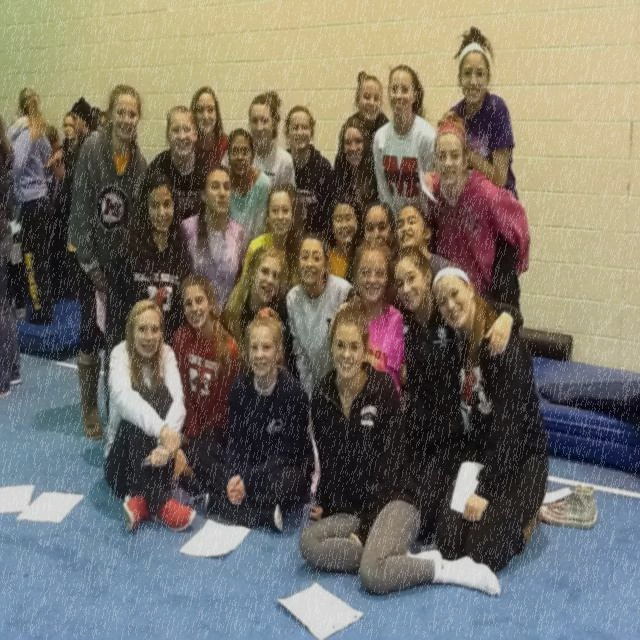pessoa: (294, 289, 505, 602), (426, 254, 554, 576), (391, 245, 524, 552), (184, 303, 322, 535), (443, 22, 523, 402), (66, 84, 148, 442), (102, 297, 198, 536), (423, 110, 531, 304), (284, 228, 355, 506), (114, 168, 195, 345), (7, 84, 60, 332), (171, 272, 241, 441), (220, 241, 302, 382), (344, 235, 407, 415), (178, 162, 248, 321), (371, 63, 438, 224), (237, 180, 307, 322), (278, 102, 338, 252), (146, 102, 212, 225), (0, 112, 23, 400), (395, 199, 463, 287), (334, 115, 382, 228), (225, 125, 272, 238), (246, 88, 296, 193), (324, 192, 366, 285), (190, 83, 230, 174), (55, 110, 85, 196), (354, 70, 390, 140), (70, 96, 100, 177), (360, 198, 397, 247), (40, 121, 64, 183), (90, 105, 110, 135), (7, 110, 20, 127)
